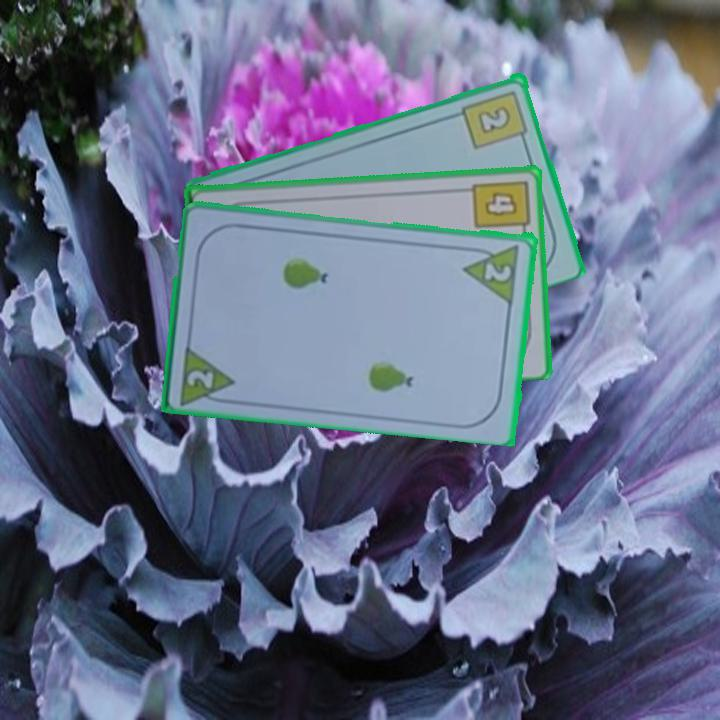2b: (459, 86, 531, 152)
2p: (177, 340, 238, 407), (481, 259, 515, 284)
4b: (469, 176, 532, 239)
